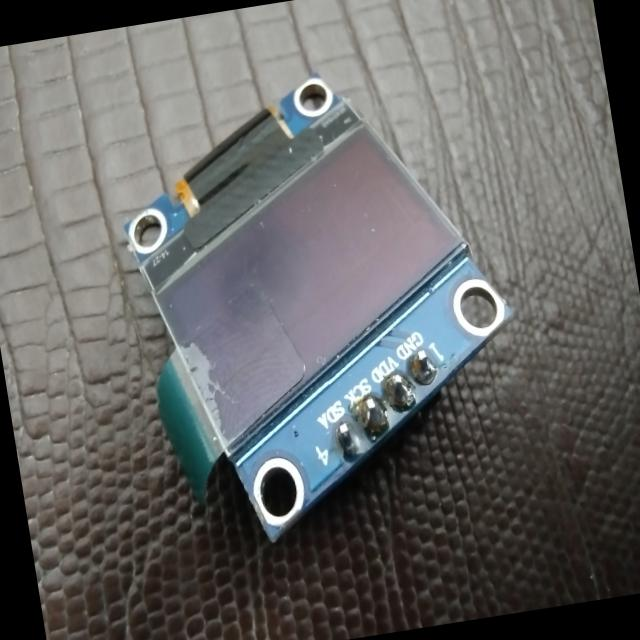oled: (96, 43, 550, 576)
